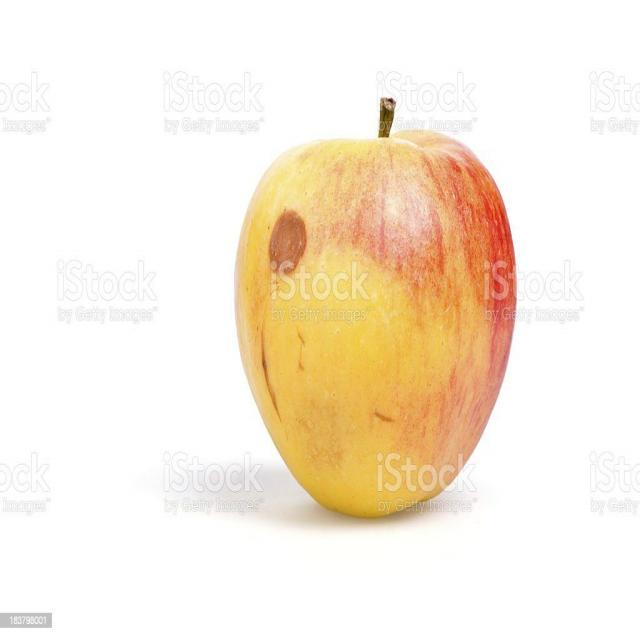Fresh Apple: (332, 146, 533, 516)
